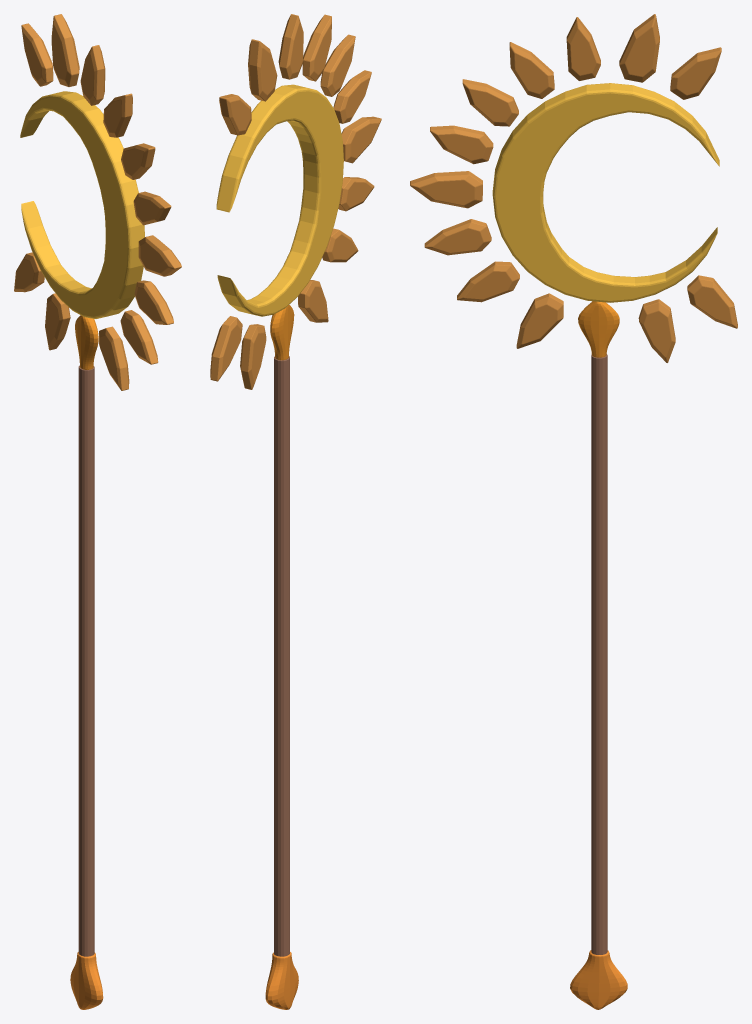
Rendered from NoColliderStick.fbx.
The picture shows the model from 3 angles, left to right: view 1: azimuth 30°, elevation 25°; view 2: azimuth 150°, elevation 25°; view 3: azimuth 270°, elevation 25°; orthographic projection.
Parts seen in each view (by area): view 1: Circle; view 2: Circle; view 3: Circle.
Boxes of the visible parts, x1=… form: Circle: x1=14, y1=14, x2=181, y2=1009; Circle: x1=210, y1=14, x2=381, y2=1009; Circle: x1=410, y1=14, x2=737, y2=1009.
Bounding box in the file's own units: 0.0205 × 1.06 × 0.3166.
